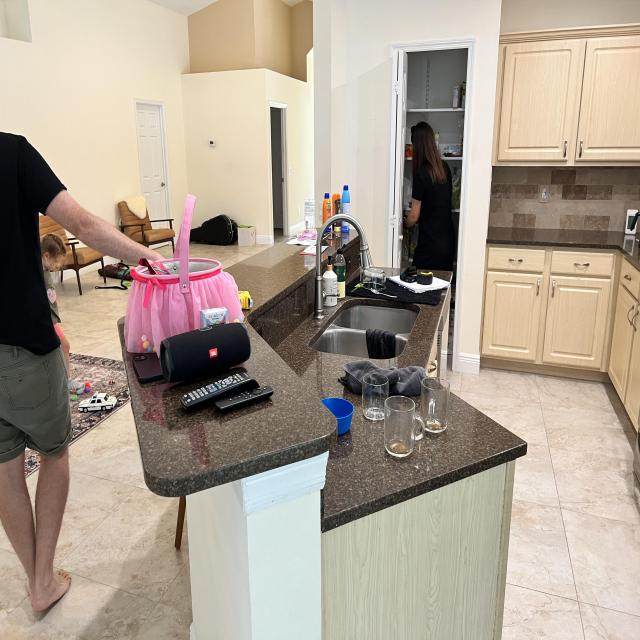Appliance_Sink: (309, 299, 420, 360), (316, 214, 370, 313)
Cabinet_Flat: (489, 248, 613, 276), (620, 258, 640, 301)
Cabinet_Raised_Panel: (482, 272, 640, 433), (494, 27, 640, 166)
Countertop_Concrete: (275, 318, 527, 533), (117, 318, 337, 498), (226, 244, 308, 310), (369, 301, 443, 369)
Countertop_Granite: (487, 225, 640, 272), (397, 303, 441, 369)
